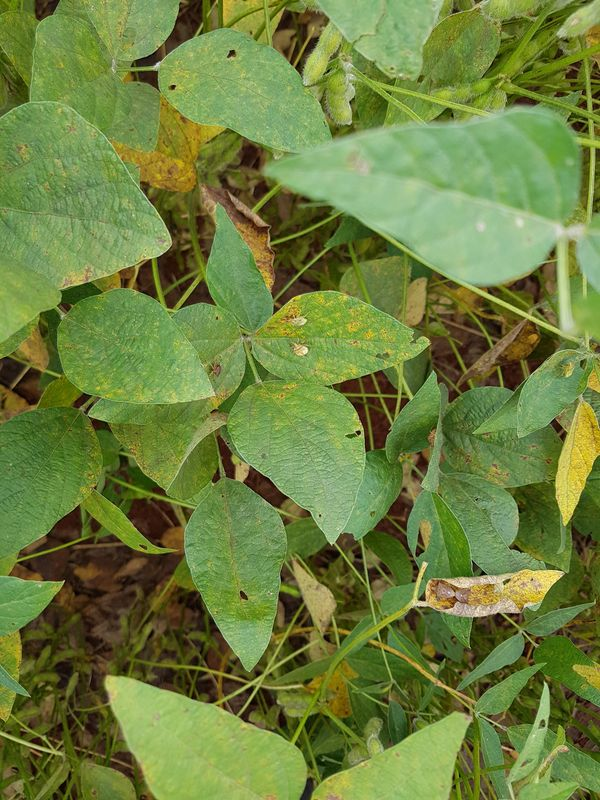Euschistus_heros_adulto: (414, 573, 455, 611), (455, 579, 479, 607), (205, 358, 226, 381)
Euschistus_heros_ninfa: (284, 335, 316, 367), (284, 311, 311, 334), (559, 358, 577, 381)
